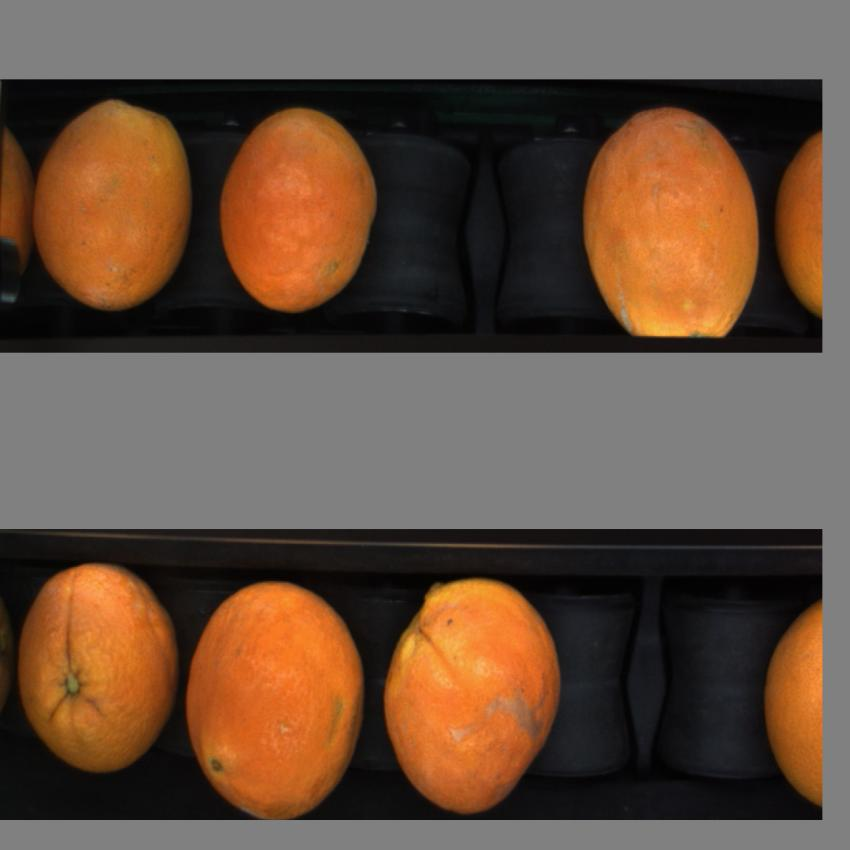Buen estado: (184, 580, 370, 816), (18, 558, 179, 782), (32, 97, 194, 317), (763, 590, 824, 808), (770, 117, 820, 315)
Mal estado: (579, 97, 763, 343), (382, 567, 568, 806), (214, 97, 381, 316)
